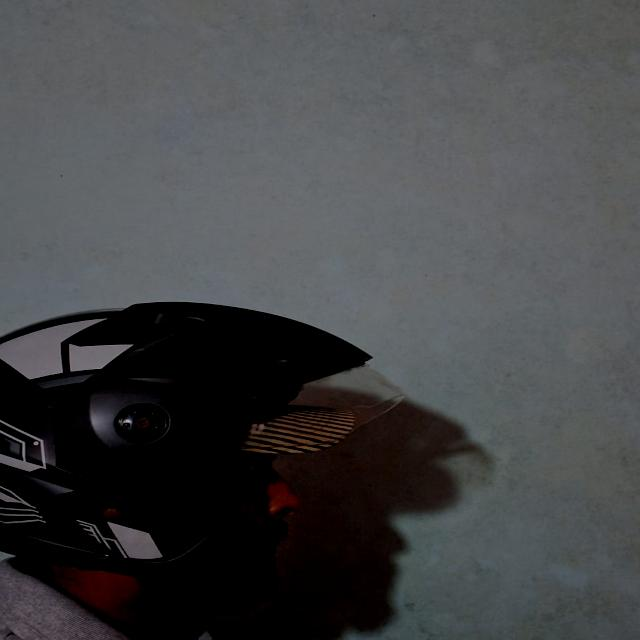With Helmet: (0, 302, 406, 576)
